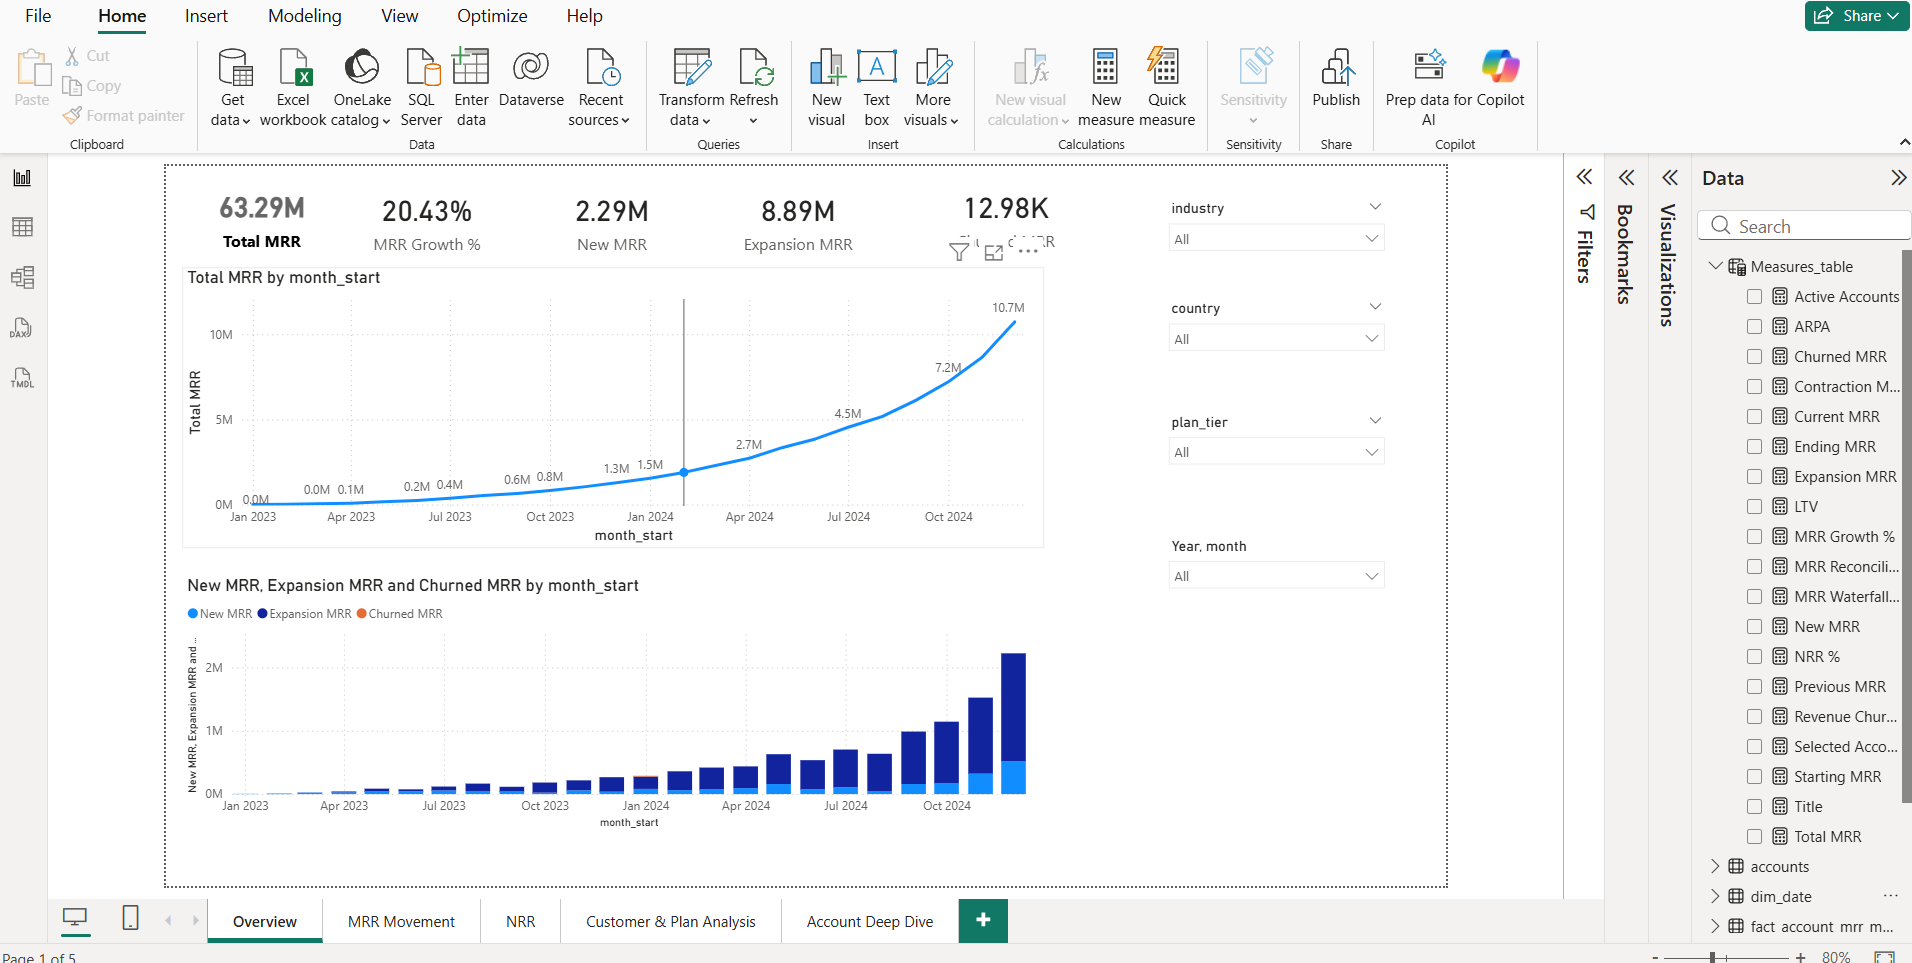

What the dashboard file says about the page in this screenshot:
{"tool":"powerbi","page":{"name":"Overview","canvas":[1280,720],"ordinal":0},"visuals":[{"type":"card","fields":{"Values":["Measures_table.Total Mrr"]},"box":[0,0,192.1,101.5],"z":0},{"type":"card","fields":{"Values":["Measures_table.MRR Growth %"]},"box":[177,6.9,167.4,94.7],"z":1},{"type":"card","fields":{"Values":["Measures_table.New MRR"]},"box":[370.5,6.9,152.3,94.7],"z":2},{"type":"card","fields":{"Values":["Measures_table.Expansion MRR"]},"box":[564,6.9,137.2,94.7],"z":3},{"type":"card","fields":{"Values":["Measures_table.Churned MRR"]},"box":[750.6,0,179.8,101.5],"z":4},{"type":"lineChart","fields":{"Y":["Measures_table.Total Mrr"],"Category":["dim_date.month_start"]},"box":[16.5,101.5,861.8,281.3],"z":5},{"type":"columnChart","fields":{"Category":["dim_date.month_start"],"Y":["Measures_table.New MRR","Measures_table.Expansion MRR","Measures_table.Churned MRR"]},"box":[16.5,408.9,861.8,259.3],"z":6},{"type":"slicer","fields":{"Values":["accounts.industry"]},"box":[992.1,28.8,236,94.7],"z":7},{"type":"slicer","fields":{"Values":["accounts.country"]},"box":[992.1,129,236,89.2],"z":8},{"type":"slicer","fields":{"Values":["accounts.plan_tier"]},"box":[992.1,242.9,236,96.1],"z":9},{"type":"slicer","fields":{"Values":["dim_date.Year","dim_date.month"]},"box":[992.1,366.4,236,79.6],"z":10}]}

Visuals, with their boxes on the page's 1280x720 design canvas (x1, y1, x2, y2). These are canvas units, not pixel positions in the 1912x963 screenshot, which may show the page scaled, cropped or inside an application window:
card - Measures_table.Total Mrr: bbox(0, 0, 192, 102)
card - Measures_table.MRR Growth %: bbox(177, 7, 344, 102)
card - Measures_table.New MRR: bbox(370, 7, 523, 102)
card - Measures_table.Expansion MRR: bbox(564, 7, 701, 102)
card - Measures_table.Churned MRR: bbox(751, 0, 930, 102)
lineChart - Measures_table.Total Mrr x dim_date.month_start: bbox(16, 102, 878, 383)
columnChart - dim_date.month_start x Measures_table.New MRR: bbox(16, 409, 878, 668)
slicer - accounts.industry: bbox(992, 29, 1228, 124)
slicer - accounts.country: bbox(992, 129, 1228, 218)
slicer - accounts.plan_tier: bbox(992, 243, 1228, 339)
slicer - dim_date.Year x dim_date.month: bbox(992, 366, 1228, 446)
